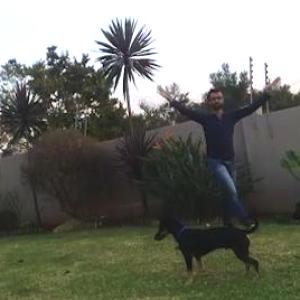takeoff: (132, 84, 254, 225)
